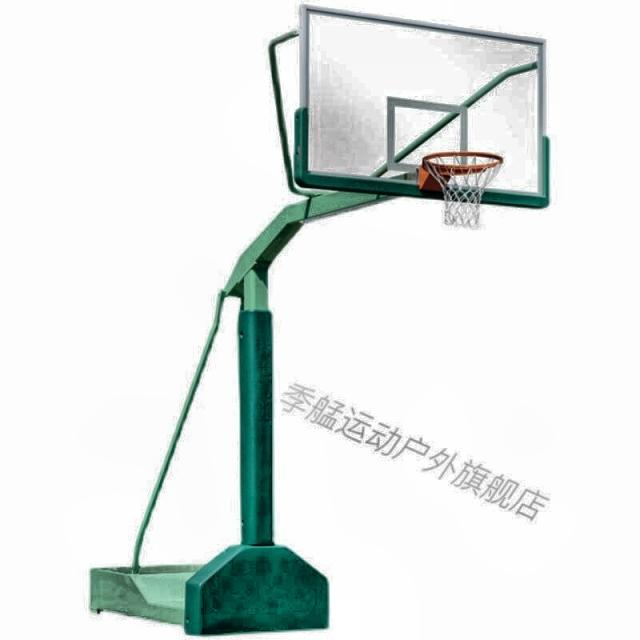rim: (426, 150, 504, 227)
